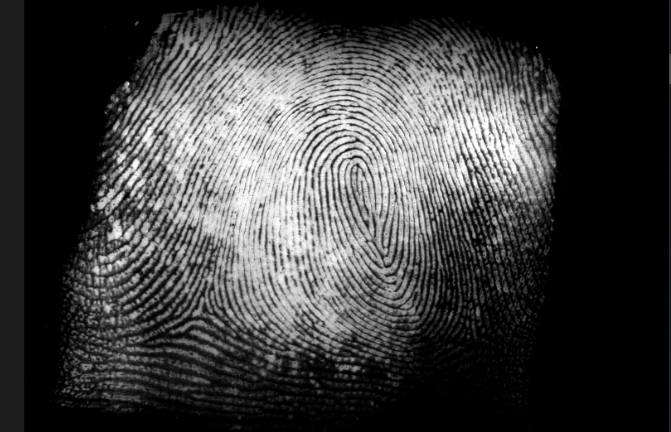deltas: (430, 303, 498, 365), (171, 280, 231, 339)
nucleo: (334, 146, 395, 214)
